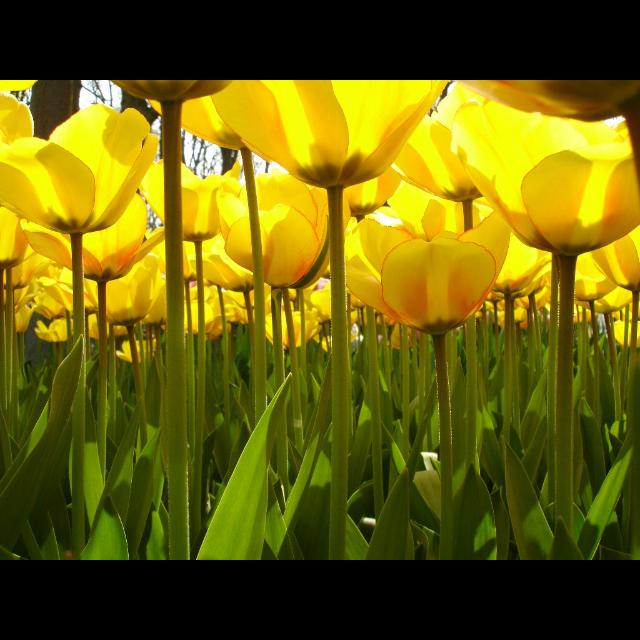Flower: (1, 80, 640, 344), (381, 220, 501, 320)
